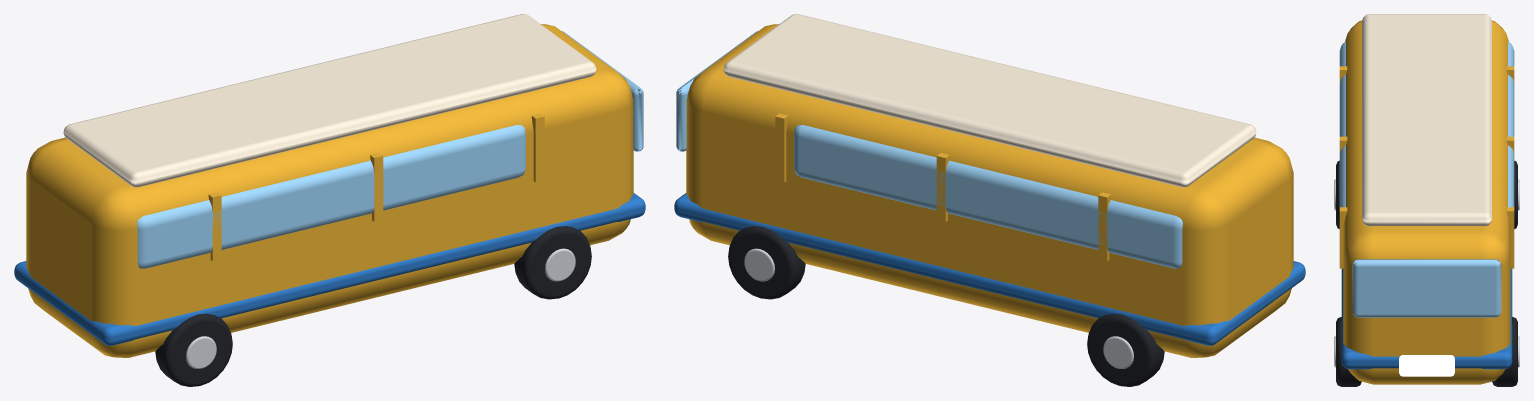
File: bus.glb
3 views of the same model, side by side, from view 1: azimuth 30°, elevation 25°; view 2: azimuth 150°, elevation 25°; view 3: azimuth 270°, elevation 25° (orthographic). The views are drawn at different scales.
Parts seen in each view (by area): view 1: body, wheel_0R, wheel_1R; view 2: body, wheel_0L, wheel_1L; view 3: body, wheel_0L, wheel_0R, wheel_1L, wheel_1R.
Boxes of the visible parts, x1,y1,x2,y2 form: body: [14, 14, 645, 357]; wheel_0R: [514, 226, 591, 299]; wheel_1R: [155, 313, 232, 386]; body: [674, 14, 1305, 357]; wheel_0L: [728, 226, 805, 299]; wheel_1L: [1087, 313, 1164, 386]; body: [1339, 14, 1514, 384]; wheel_0L: [1492, 317, 1519, 386]; wheel_0R: [1334, 317, 1361, 386]; wheel_1L: [1514, 160, 1519, 228]; wheel_1R: [1334, 160, 1339, 228].
Bounding box in the file's own units: 3.05 × 1.14 × 1.
